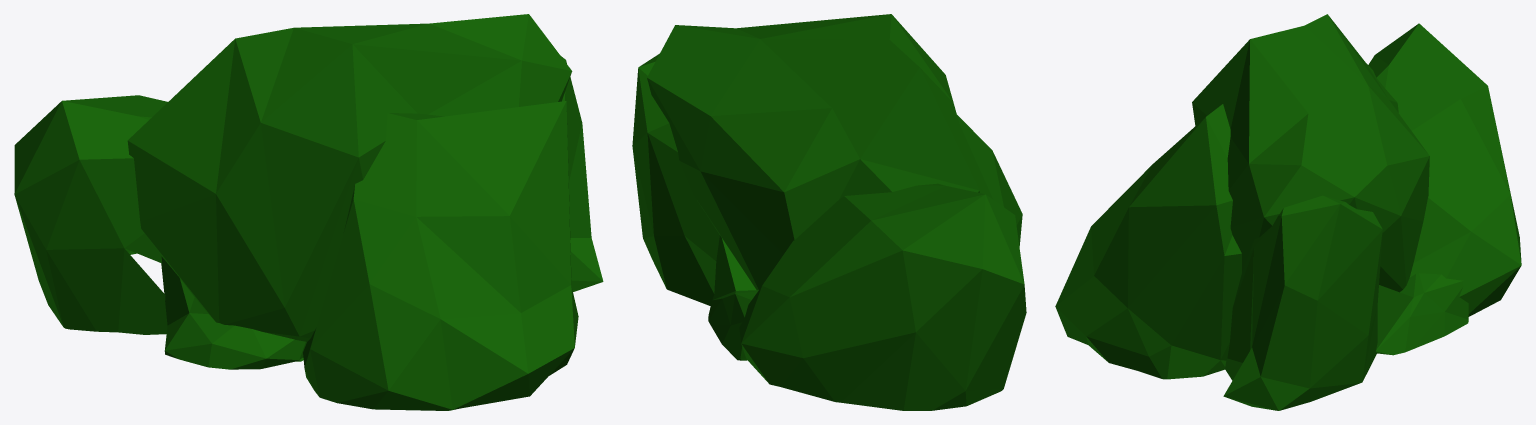
File: Buske1.fbx
The picture shows the model from 3 angles, left to right: view 1: azimuth 30°, elevation 25°; view 2: azimuth 150°, elevation 25°; view 3: azimuth 270°, elevation 25°; orthographic projection. The views are drawn at different scales.
Parts seen in each view (by area): view 1: Icosphere.002; view 2: Icosphere.002; view 3: Icosphere.002.
Part boxes in pixels (bbox=[...]): Icosphere.002: bbox=[14, 14, 603, 410]; Icosphere.002: bbox=[632, 14, 1026, 410]; Icosphere.002: bbox=[1055, 14, 1521, 410].
Bounding box in the file's own units: 3.54 × 2.05 × 3.26.
